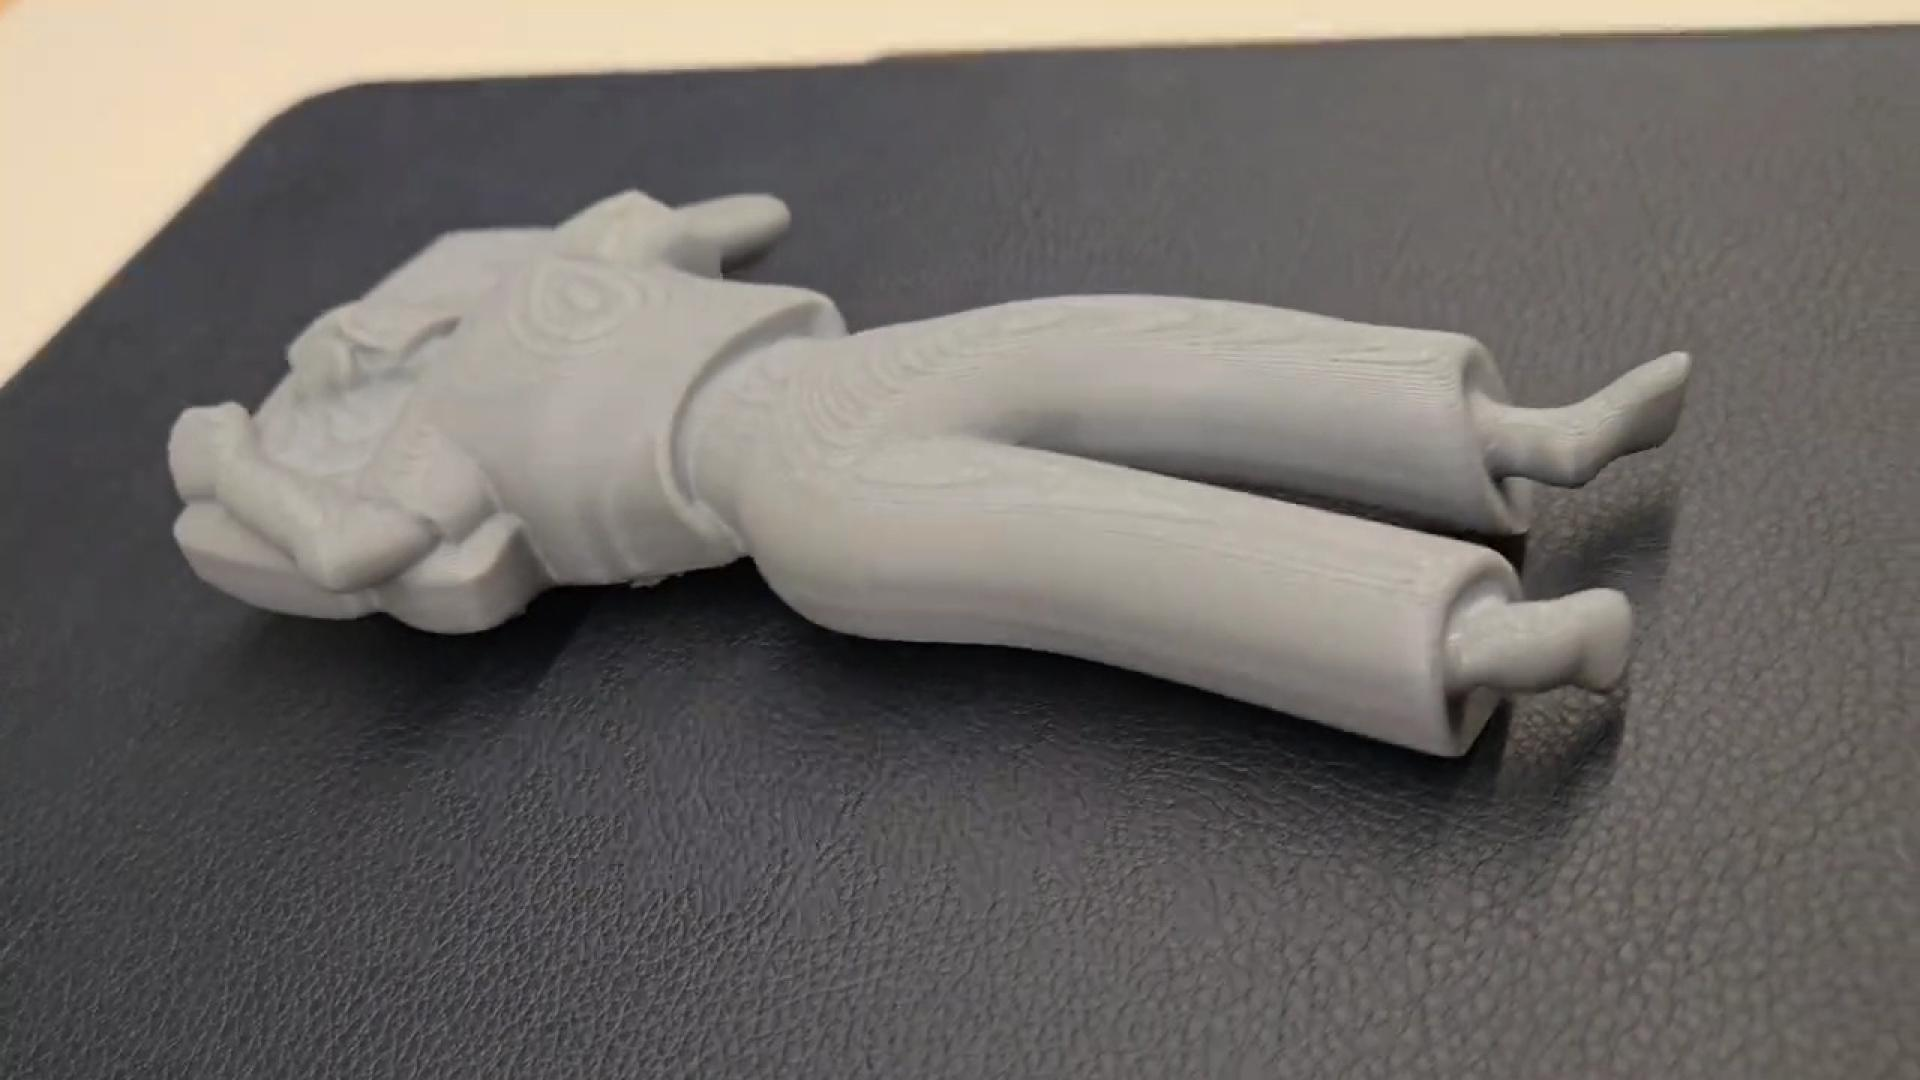Bad-style: (167, 178, 1700, 746)
